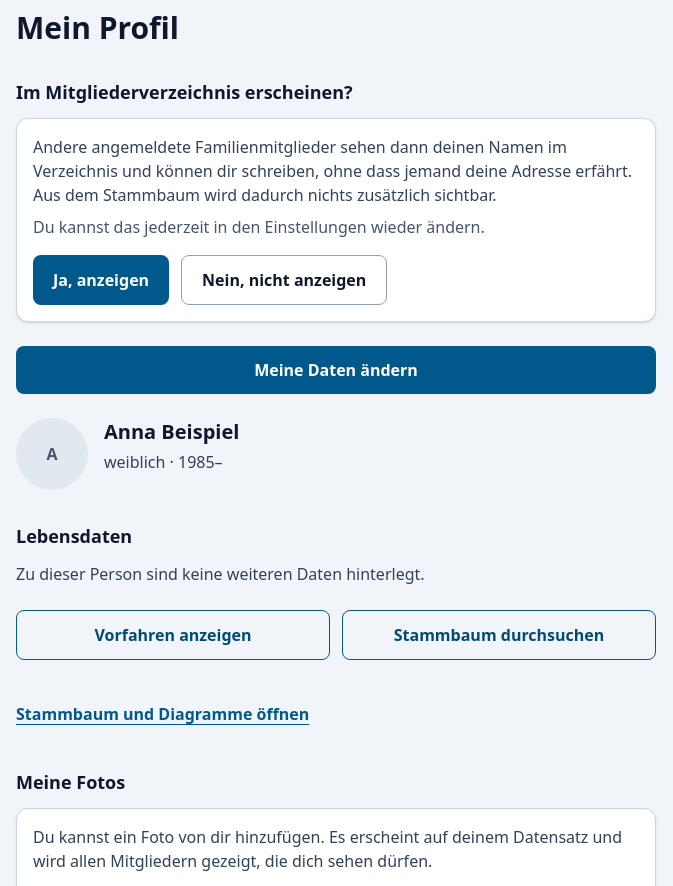
asking about the member directory › lists the member who says yes, and stops asking
Click the button "Ja, anzeigen" at (101, 280), box 33,255 -> 169,305
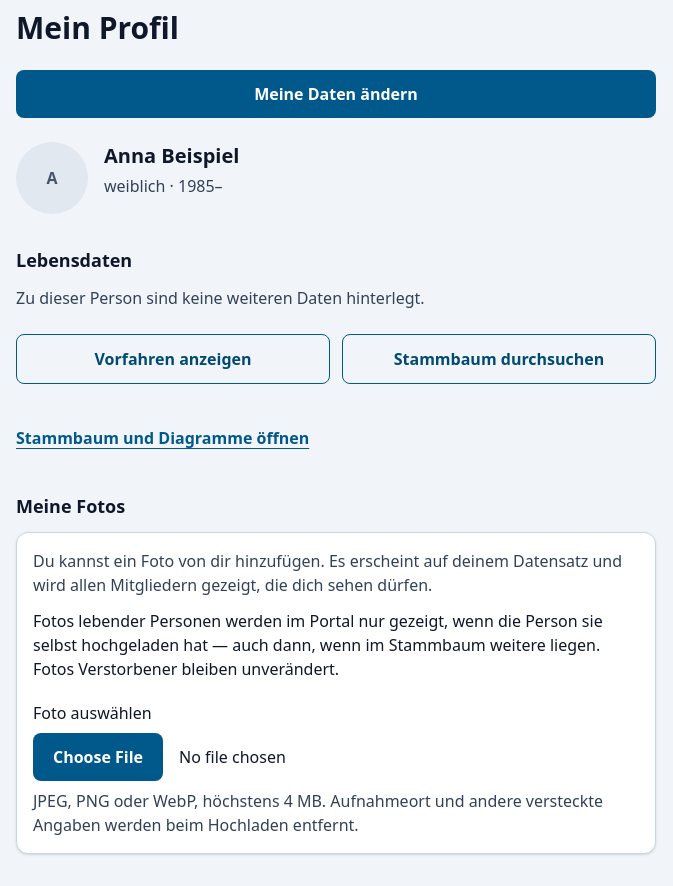
Result: the heading "Im Mitgliederverzeichnis erscheinen?" is gone
